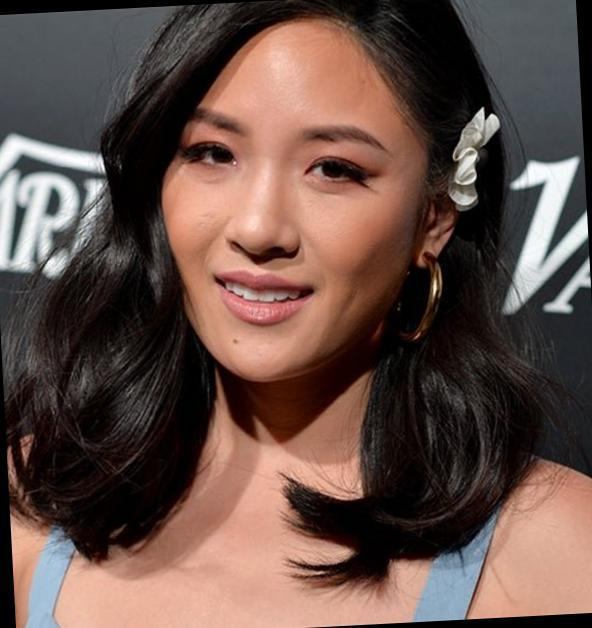Sober: (168, 39, 432, 391)
